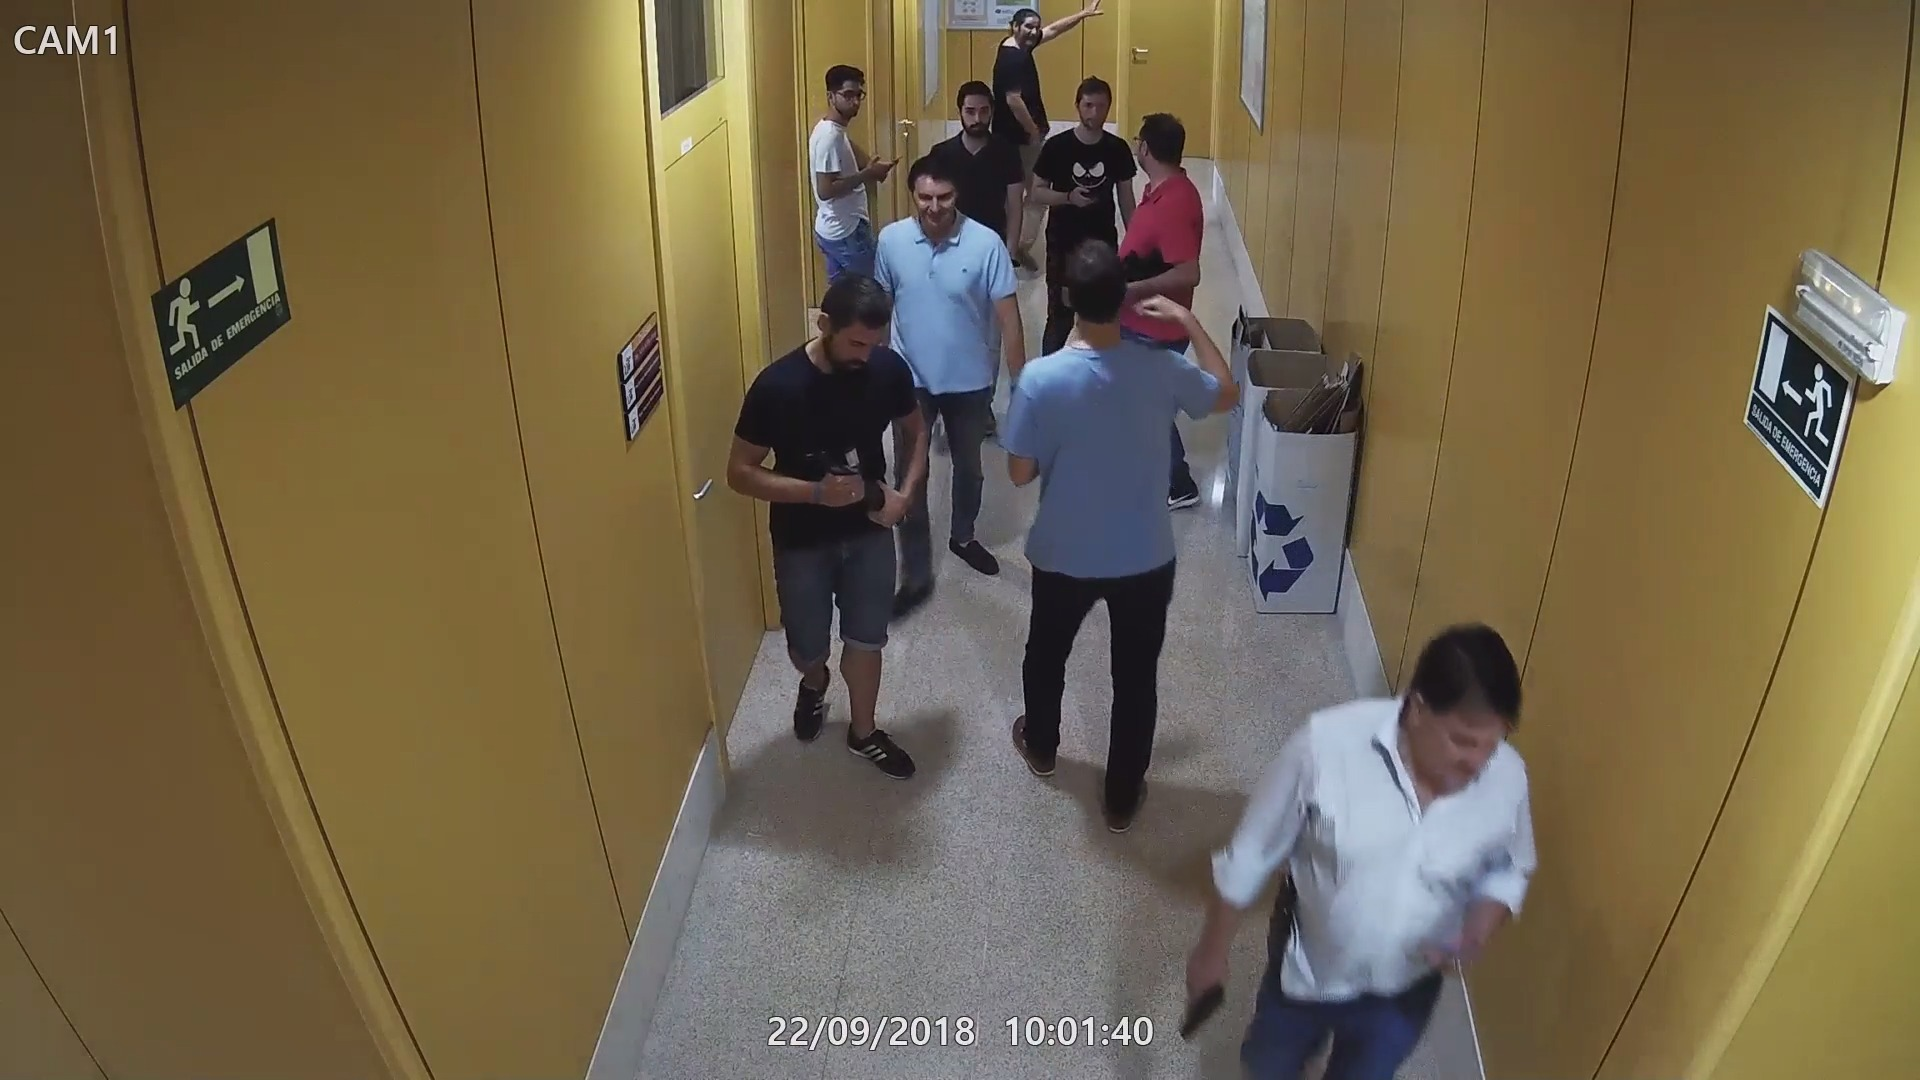Handgun: (1176, 942, 1237, 1044)
Short_rifle: (789, 444, 909, 530), (1117, 245, 1184, 293)
